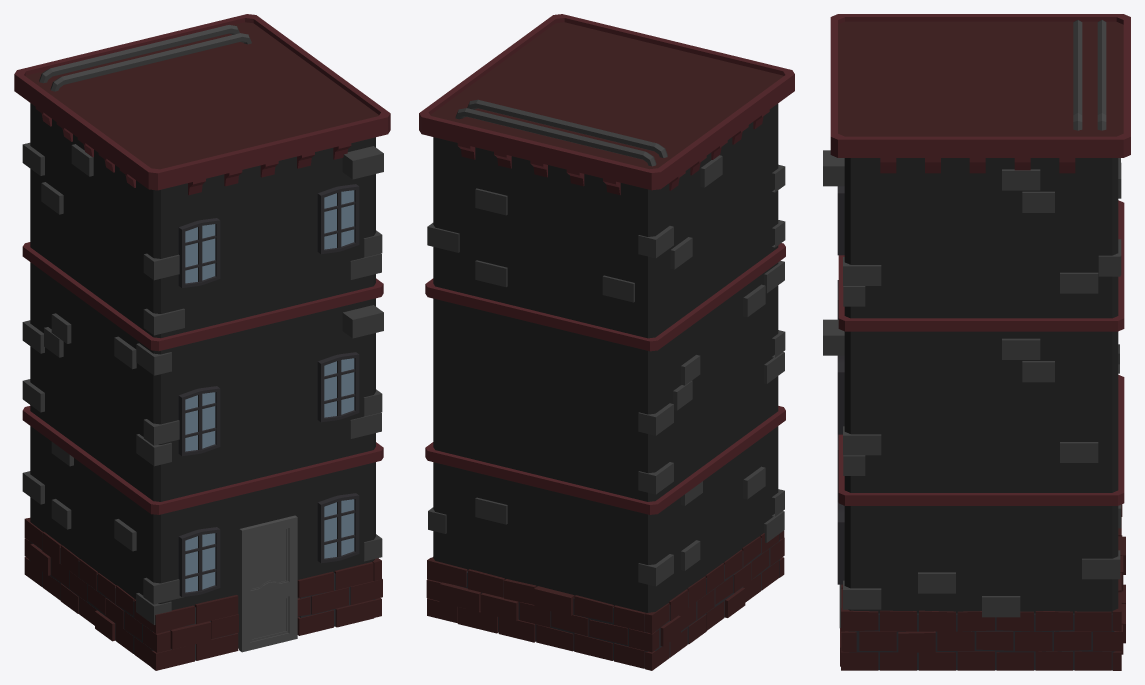
Rendered from 3Story.glb.
The picture shows the model from 3 angles, left to right: view 1: azimuth 30°, elevation 25°; view 2: azimuth 150°, elevation 25°; view 3: azimuth 270°, elevation 25°; orthographic projection. The views are drawn at different scales.
Parts seen in each view (by area): view 1: 3Story_Small; view 2: 3Story_Small; view 3: 3Story_Small.
Boxes of the visible parts, x1,y1,x2,y2 form: 3Story_Small: [14, 14, 390, 670]; 3Story_Small: [419, 14, 794, 670]; 3Story_Small: [823, 14, 1130, 670].
Size of the model in its own units: 1.91 by 3.85 by 1.97.
1 material, 1 textured.
